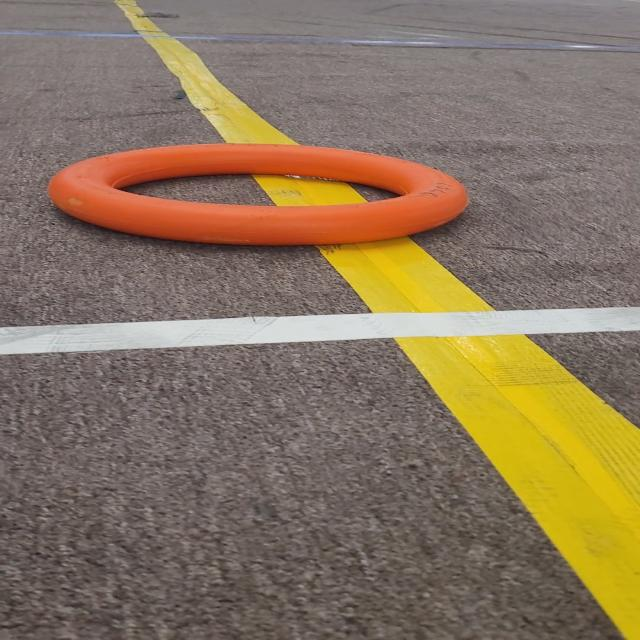note: (31, 138, 492, 260)
